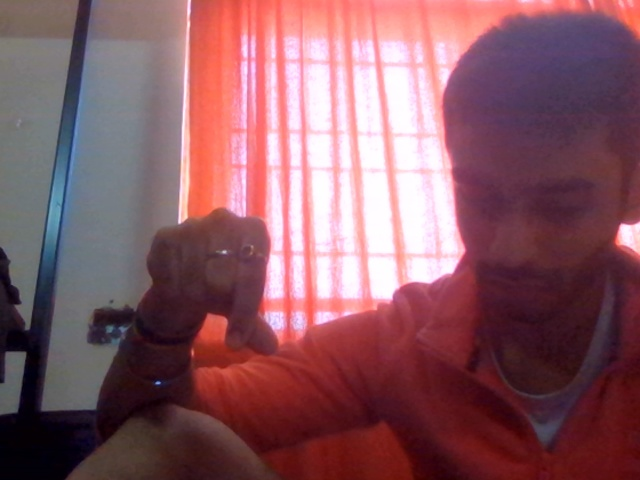Q: (133, 188, 372, 411)
